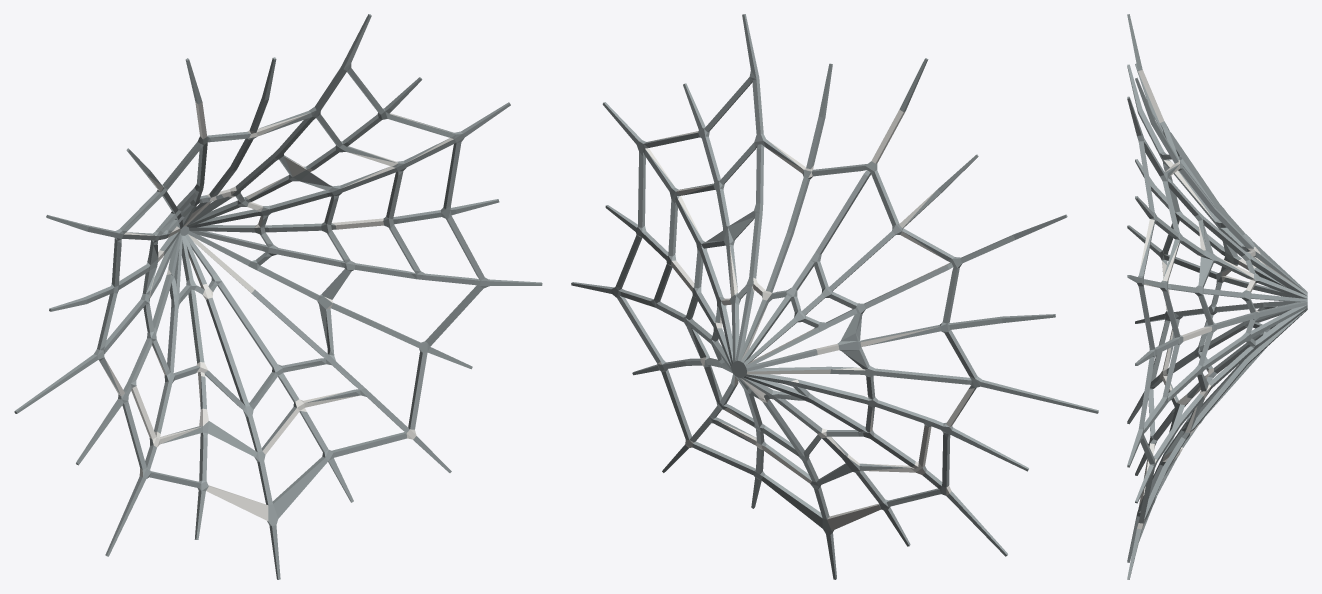
Rendered from WF_LP_HT_Environment_SpiderWeb.002.fbx.
The picture shows the model from 3 angles, left to right: view 1: azimuth 30°, elevation 25°; view 2: azimuth 150°, elevation 25°; view 3: azimuth 270°, elevation 25°; orthographic projection. The views are drawn at different scales.
Visible parts, largest first — view 1: WF_LP_HT_Environment_SpiderWeb.002; view 2: WF_LP_HT_Environment_SpiderWeb.002; view 3: WF_LP_HT_Environment_SpiderWeb.002.
Part boxes in pixels (left/top/right/bottom): WF_LP_HT_Environment_SpiderWeb.002: left=14, top=14, right=542, bottom=579; WF_LP_HT_Environment_SpiderWeb.002: left=571, top=14, right=1098, bottom=579; WF_LP_HT_Environment_SpiderWeb.002: left=1127, top=14, right=1307, bottom=579.
Bounding box in the file's own units: 1.97 × 1.94 × 0.6272.
